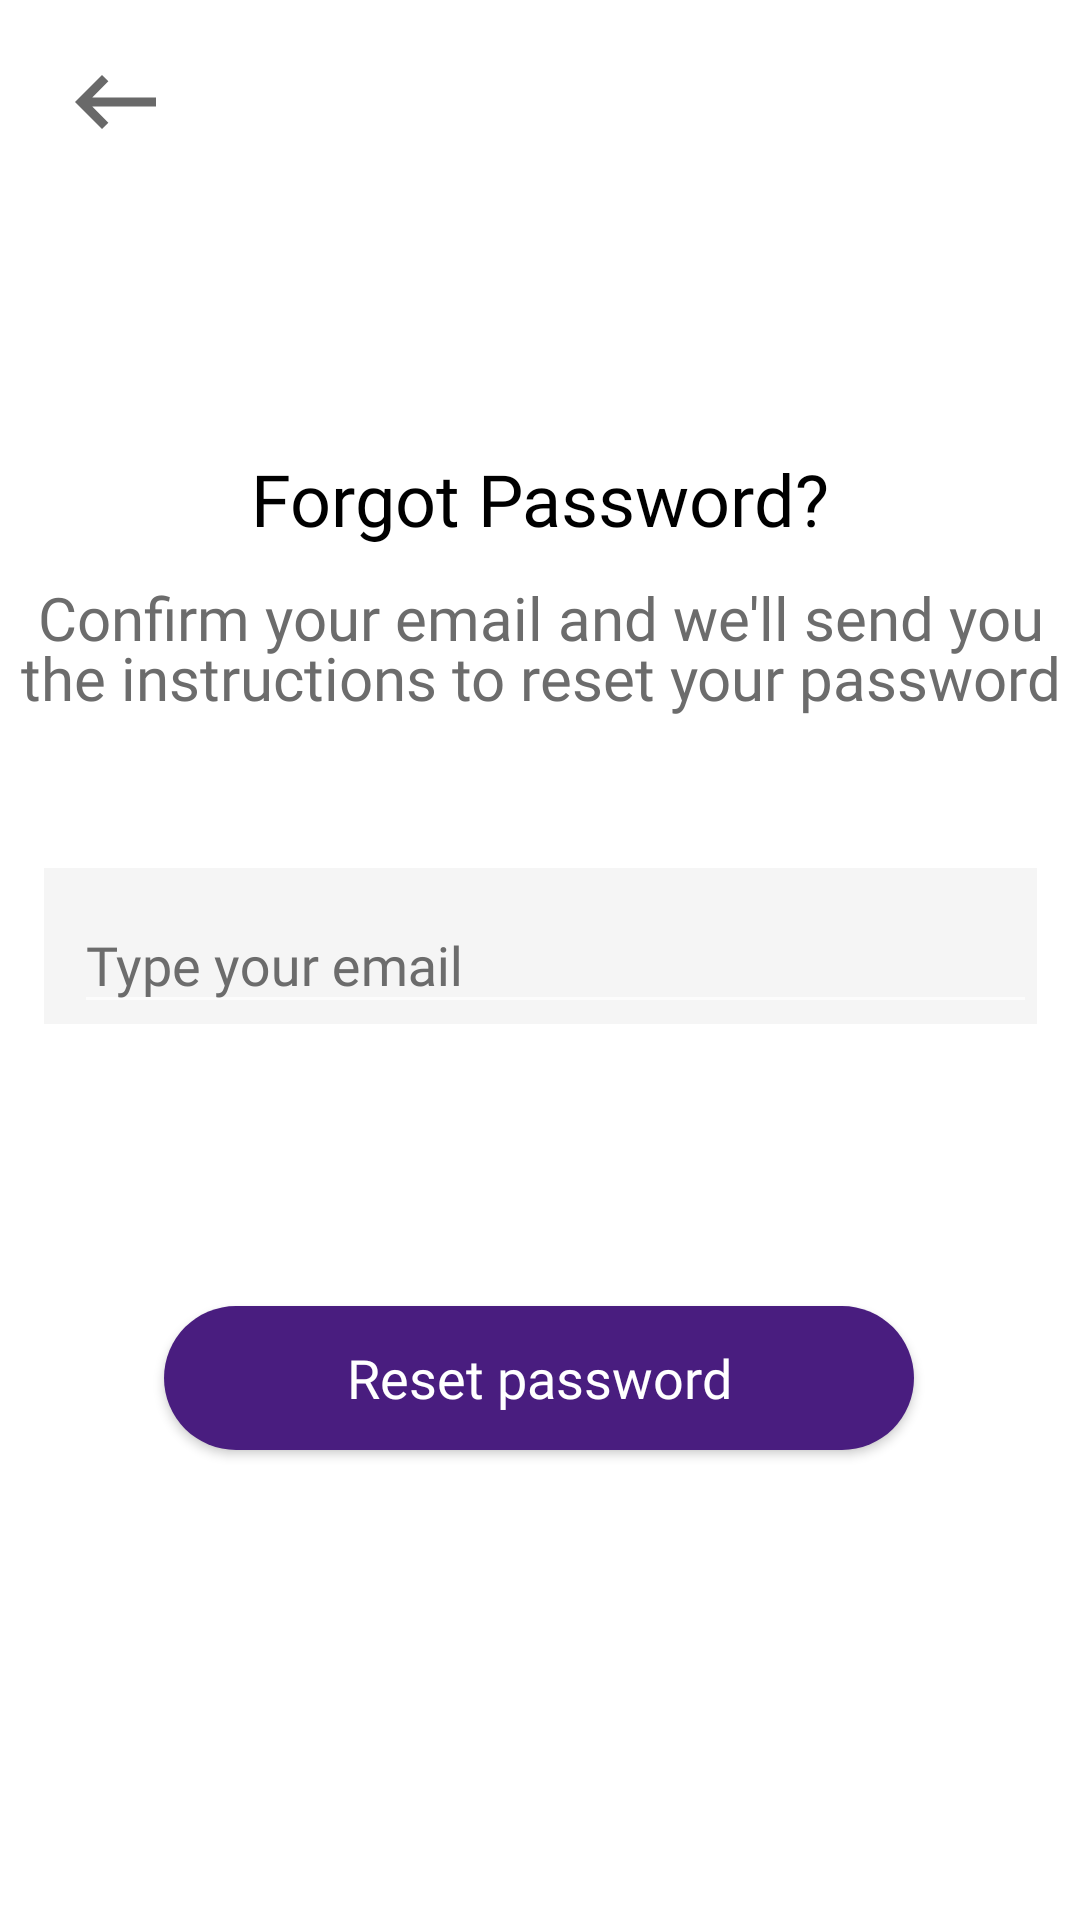

Named icons in this screenshot (1080px x 1920px) and their bounding boxes, (x1, y1, x2, y2):
back: (75, 75, 156, 129)
